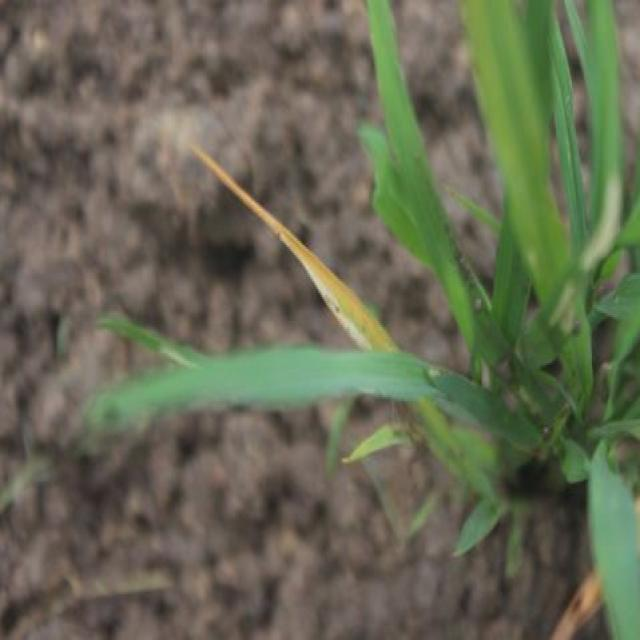Tungro: (190, 131, 389, 364)
